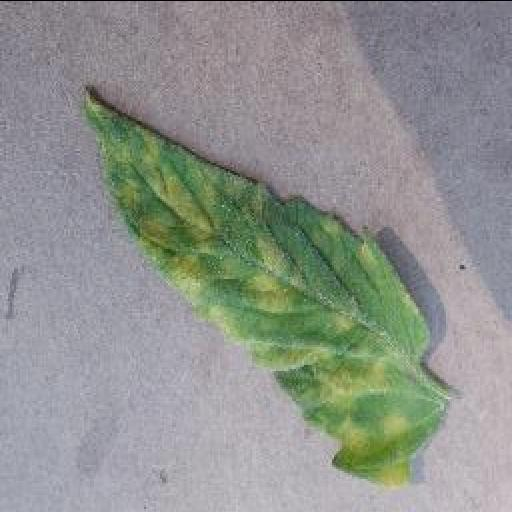disease_tomato: (78, 86, 450, 488)
